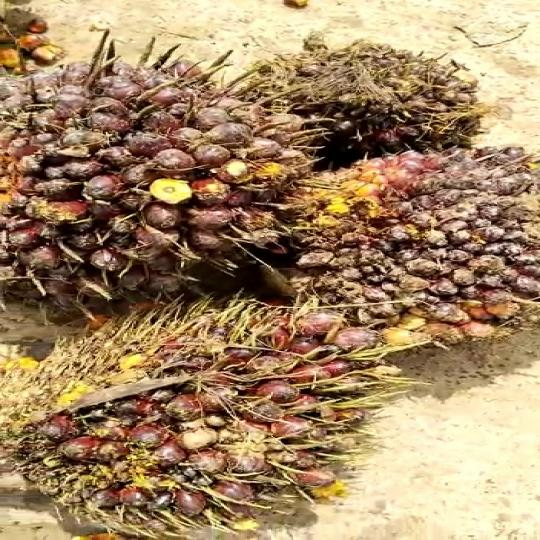kurang masak: (0, 297, 373, 540), (0, 38, 293, 297), (275, 144, 540, 363), (228, 30, 490, 168)
